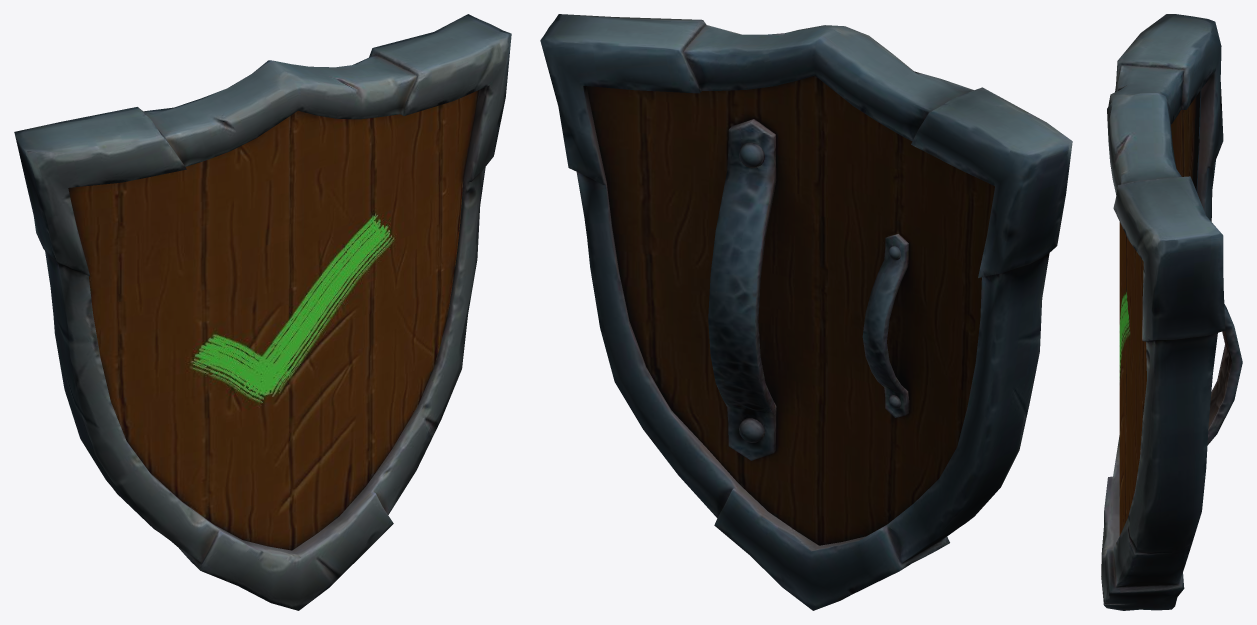
The model's file is safe_room_3d.glb.
3 views of the same model, side by side, from view 1: azimuth 30°, elevation 25°; view 2: azimuth 150°, elevation 25°; view 3: azimuth 270°, elevation 25° (orthographic). The views are drawn at different scales.
Parts seen in each view (by area): view 1: Inner_frame, metal_frame; view 2: Inner_frame, metal_frame, handles, Rivets; view 3: metal_frame, Inner_frame, handles.
Part boxes in pixels (bbox=[...]): Inner_frame: bbox=[68, 90, 478, 550]; metal_frame: bbox=[14, 14, 511, 610]; Inner_frame: bbox=[586, 75, 994, 545]; metal_frame: bbox=[540, 14, 1072, 610]; handles: bbox=[708, 119, 909, 460]; Rivets: bbox=[739, 142, 900, 442]; metal_frame: bbox=[1101, 14, 1225, 610]; Inner_frame: bbox=[1119, 91, 1200, 535]; handles: bbox=[1207, 304, 1242, 444].
Size of the model in its own units: 98.96 by 105 by 25.92.
Materials: 1 (1 with a texture image).
